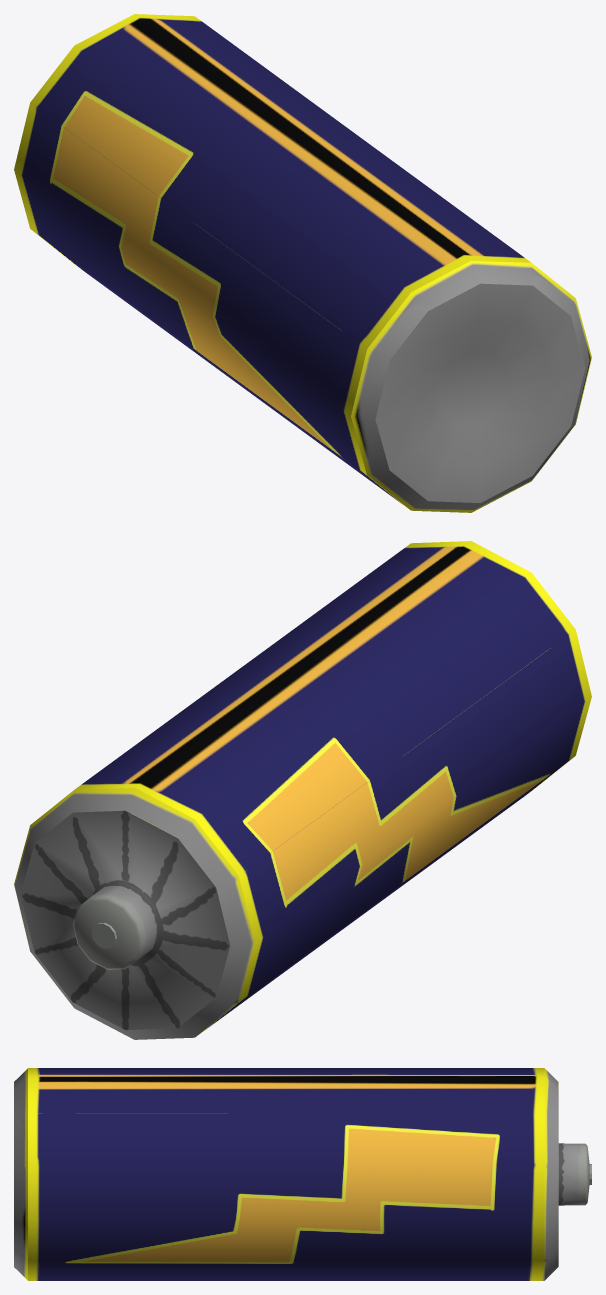
File: Pila.FBX
3 renders of one model, top to bottom at view 1: azimuth 30°, elevation 25°; view 2: azimuth 150°, elevation 25°; view 3: azimuth 270°, elevation 25°, orthographic. The views are drawn at different scales.
Visible parts, largest first — view 1: Pila; view 2: Pila; view 3: Pila.
Part boxes in pixels (bbox=[...]): Pila: bbox=[14, 14, 591, 512]; Pila: bbox=[14, 541, 591, 1039]; Pila: bbox=[14, 1068, 591, 1280].
Size of the model in its own units: 4.51 by 4.51 by 12.2.
